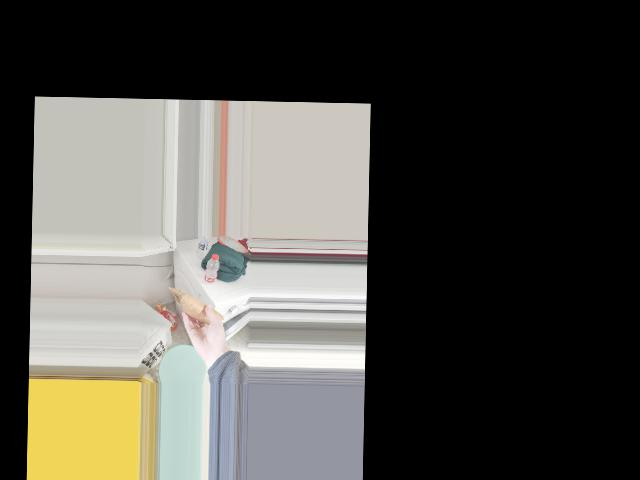sweet_potato: (181, 296, 215, 323)
